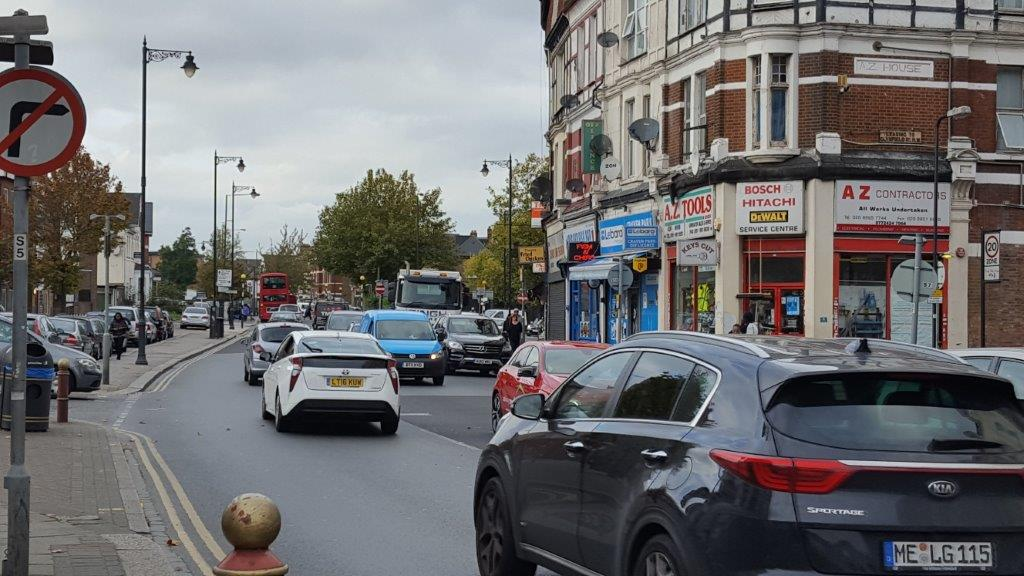No_right_turn: (1, 68, 87, 177)
